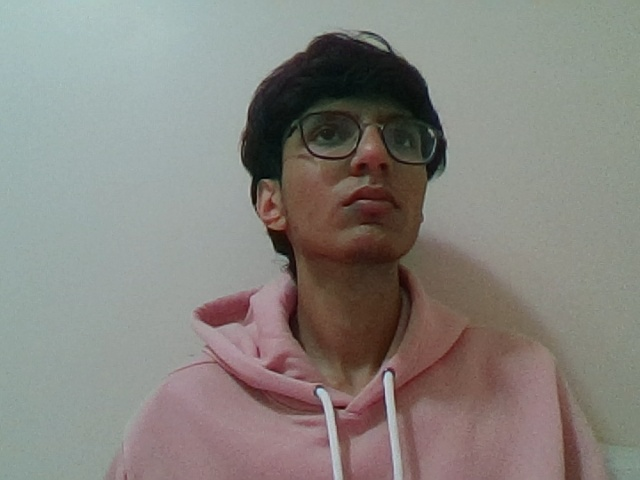Face_mask_not_found: (249, 156, 471, 295)
